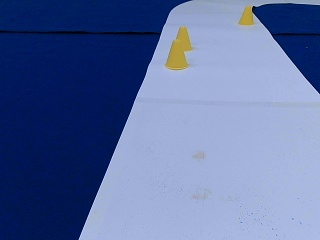cone: (165, 39, 189, 69), (175, 26, 192, 50), (238, 6, 253, 25)
